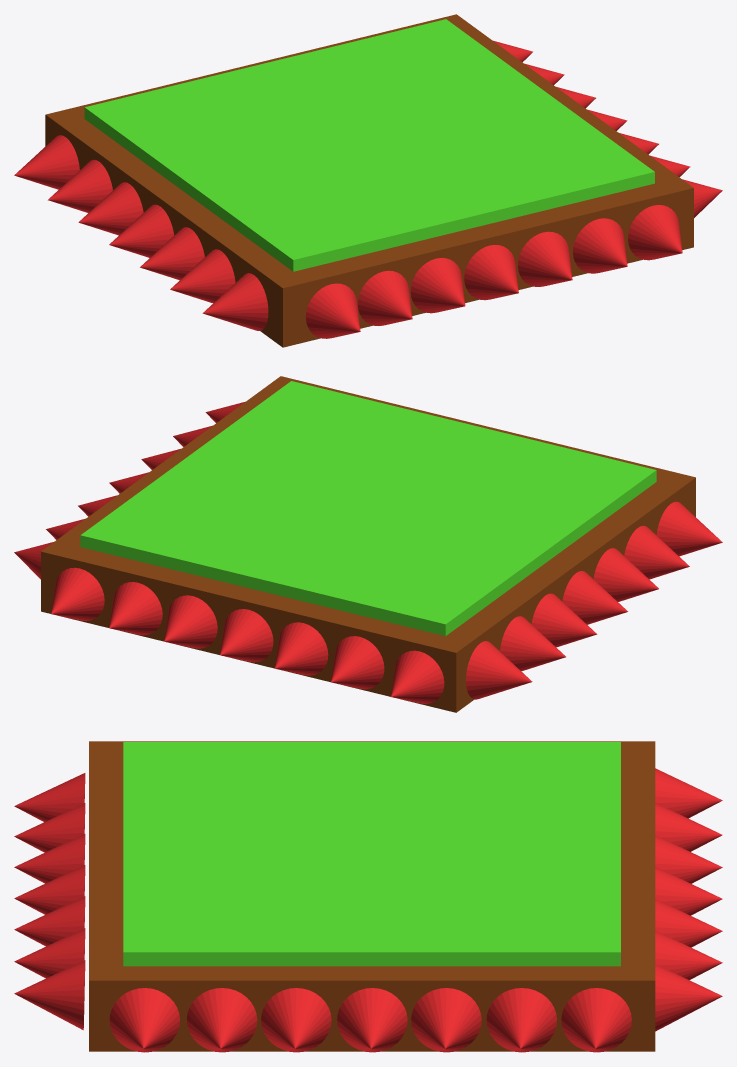
File: spikeyPlatform.glb
The picture shows the model from 3 angles, top to bottom: view 1: azimuth 30°, elevation 25°; view 2: azimuth 150°, elevation 25°; view 3: azimuth 270°, elevation 25°; orthographic projection. The views are drawn at different scales.
Parts seen in each view (by area): view 1: Cube.001, Cube, Cone.016, Cone.018, Cone.020, Cone.019, Cone.014, Cone.015, Cone.017, Cone.011, Cone.012, Cone.009 (+5 smaller); view 2: Cube.001, Cube, Cone.012, Cone, Cone.007, Cone.003, Cone.006, Cone.001, Cone.002, Cone.004, Cone.010, Cone.011 (+4 smaller); view 3: Cube.001, Cube, Cone.025, Cone.021, Cone.023, Cone.024, Cone.022, Cone.027, Cone.026, Cone.019, Cone.004, Cone.016 (+11 smaller).
Boxes of the visible parts, x1,y1,x2,y2 form: Cube.001: [84, 19, 654, 271]; Cube: [45, 14, 693, 347]; Cone.016: [573, 218, 627, 273]; Cone.018: [305, 283, 360, 338]; Cone.020: [464, 245, 518, 300]; Cone.019: [628, 205, 682, 260]; Cone.014: [410, 258, 465, 313]; Cone.015: [518, 231, 572, 286]; Cone.017: [358, 270, 412, 325]; Cone.011: [202, 273, 268, 330]; Cone.012: [14, 135, 79, 189]; Cone.009: [170, 249, 235, 303]; Cube.001: [80, 381, 656, 636]; Cube: [41, 376, 695, 712]; Cone.012: [466, 641, 532, 699]; Cone: [274, 622, 328, 675]; Cone.007: [391, 650, 444, 703]; Cone.003: [331, 636, 384, 689]; Cone.006: [220, 609, 273, 662]; Cone.001: [164, 595, 217, 648]; Cone.002: [109, 582, 162, 635]; Cone.004: [51, 567, 104, 620]; Cone.010: [500, 616, 565, 671]; Cone.011: [656, 501, 722, 556]; Cube.001: [123, 742, 620, 966]; Cube: [89, 741, 655, 1051]; Cone.025: [561, 988, 631, 1052]; Cone.021: [337, 988, 407, 1052]; Cone.023: [261, 988, 331, 1052]; Cone.024: [486, 988, 556, 1052]; Cone.022: [411, 988, 481, 1052]; Cone.027: [109, 988, 179, 1052]; Cone.026: [186, 988, 257, 1052]; Cone.019: [14, 960, 85, 1030]; Cone.004: [655, 964, 722, 1031]; Cone.016: [14, 928, 85, 978].
Size of the model in its own units: 3.58 by 0.4728 by 3.57.
